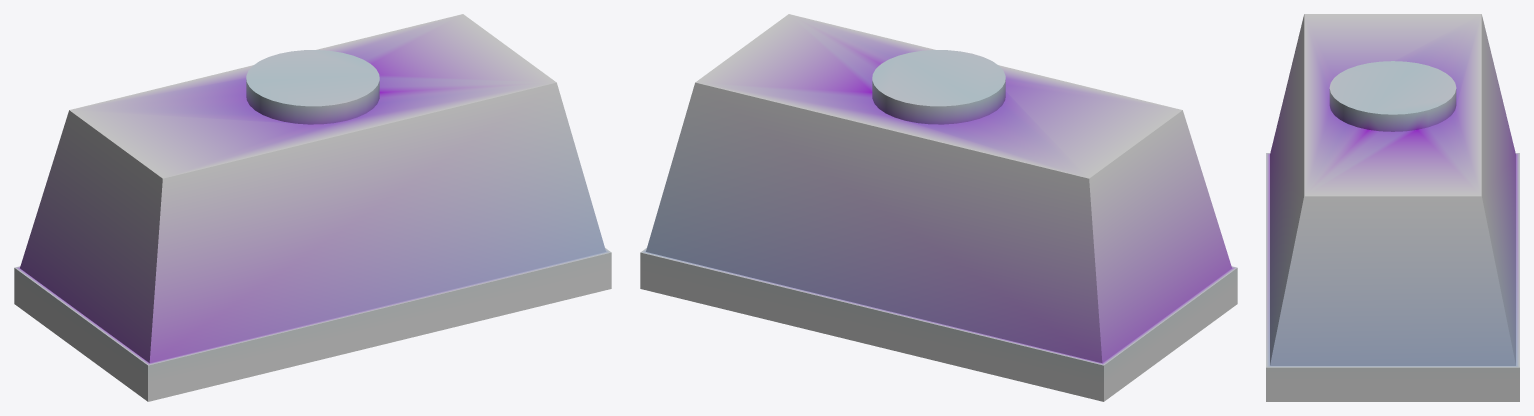
The model's file is zero-to-cad-58b16b89-16c9-9331-0b6b-0964ea3fedff.glb.
The picture shows the model from 3 angles, left to right: view 1: azimuth 30°, elevation 25°; view 2: azimuth 150°, elevation 25°; view 3: azimuth 270°, elevation 25°; orthographic projection. The views are drawn at different scales.
Parts seen in each view (by area): view 1: result; view 2: result; view 3: result.
Part boxes in pixels (bbox=[...]): result: bbox=[14, 14, 611, 401]; result: bbox=[640, 14, 1237, 401]; result: bbox=[1266, 14, 1519, 401].
Size of the model in its own units: 0.08 by 0.036 by 0.04.
